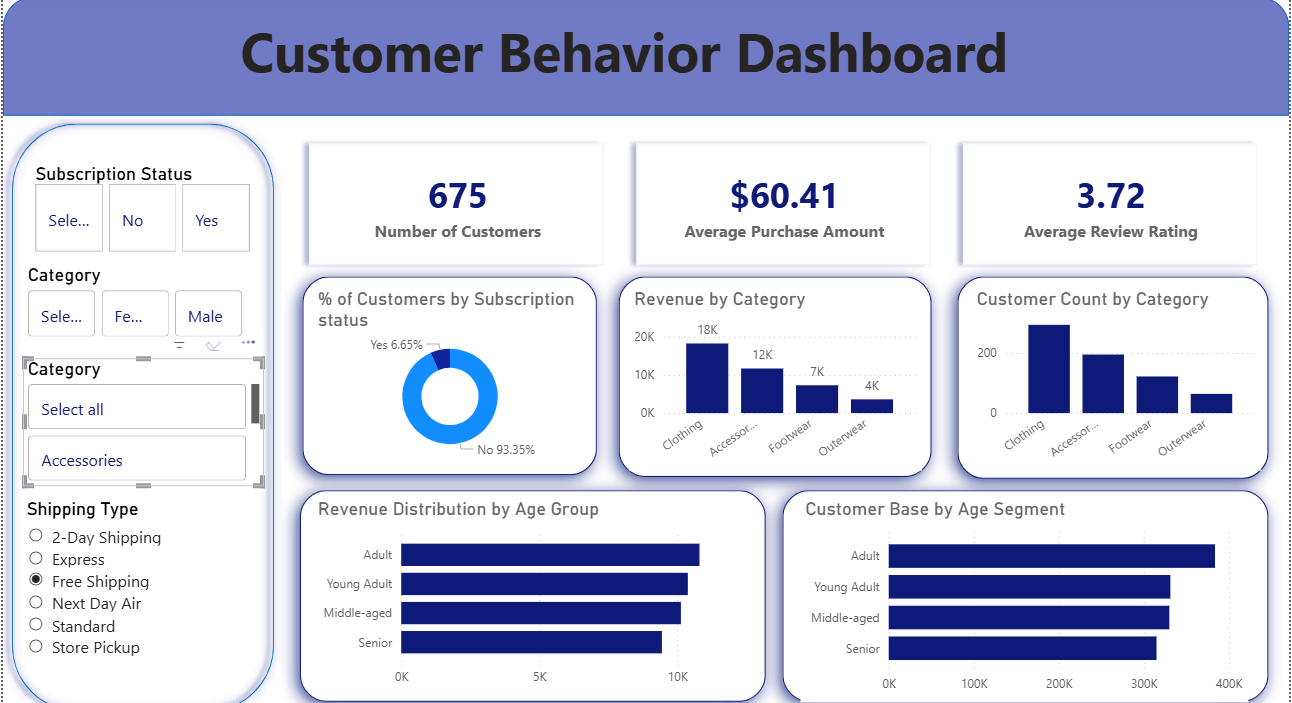

What the dashboard file says about the page in this screenshot:
{"tool":"powerbi","page":{"name":"Page 1","canvas":[1280,720],"ordinal":0},"visuals":[{"type":"cardVisual","fields":{"Data":["Query1.Number of Customers","Query1.Average Purchase Amount","Query1.Average Review Rating"]},"box":[276.8,117.3,1002.5,179.6],"z":0},{"type":"shape","box":[0,0,1280,118.2],"z":1000},{"type":"textbox","box":[204,12.4,828.5,89.6],"z":2000},{"type":"shape","box":[278.6,258.4,331.7,236.4],"z":3000},{"type":"donutChart","title":"% of Customers by Subscription status","fields":{"Category":["Query1.subscription_status"],"Y":["Sum(Query1.customer_id)"]},"box":[307.9,289.6,273.1,174.1],"z":4000},{"type":"shape","box":[593.8,258.4,350.1,238.3],"z":5000},{"type":"shape","box":[931.1,258.4,348.2,240.1],"z":6000},{"type":"shape","box":[0,117.3,278.6,603],"z":7000},{"type":"clusteredColumnChart","title":"Revenue by Category","fields":{"Y":["Sum(Query1.purchase_amount)"],"Category":["Query1.category"]},"box":[623.1,289.6,291.4,181.4],"z":8000},{"type":"clusteredColumnChart","title":"Customer Count by Category","fields":{"Category":["Query1.category"],"Y":["Query1.Number of Customers"]},"box":[964,289.6,287.7,181.4],"z":9000},{"type":"advancedSlicerVisual","title":"Subscription Status","fields":{"Values":["Query1.subscription_status"]},"box":[27.5,165,223.6,93.5],"z":10000},{"type":"advancedSlicerVisual","title":"Category","fields":{"Values":["Query1.category"]},"box":[20.2,359.2,240.1,128.3],"z":11000},{"type":"listSlicer","title":"Shipping Type","fields":{"Values":["Query1.shipping_type"]},"box":[18.3,498.5,225.4,166.8],"z":12000},{"type":"shape","box":[276.8,471,502.2,249.3],"z":13000},{"type":"clusteredBarChart","title":"Revenue Distribution by Age Group","fields":{"Category":["Query1.age_group"],"Y":["Sum(Query1.purchase_amount)"]},"box":[307.9,498.5,432.5,196.1],"z":14000},{"type":"shape","box":[756.9,471,522.3,249.3],"z":15000},{"type":"clusteredBarChart","title":"Customer Base by Age Segment","fields":{"Category":["Query1.age_group"],"Y":["Sum(Query1.customer_id)"]},"box":[793.6,498.5,445.4,203.4],"z":16000},{"type":"advancedSlicerVisual","title":"Category","fields":{"Values":["Query1.gender"]},"box":[20.2,265.8,223.6,77],"z":17000}]}

Visuals, with their boxes on the page's 1280x720 design canvas (x1, y1, x2, y2). These are canvas units, not pixel positions in the 1292x703 screenshot, which may show the page scaled, cropped or inside an application window:
cardVisual - Query1.Number of Customers x Query1.Average Purchase Amount: <region>277, 117, 1279, 297</region>
shape: <region>0, 0, 1280, 118</region>
textbox: <region>204, 12, 1032, 102</region>
shape: <region>279, 258, 610, 495</region>
"% of Customers by Subscription status" donutChart: <region>308, 290, 581, 464</region>
shape: <region>594, 258, 944, 497</region>
shape: <region>931, 258, 1279, 498</region>
shape: <region>0, 117, 279, 720</region>
"Revenue by Category" clusteredColumnChart: <region>623, 290, 914, 471</region>
"Customer Count by Category" clusteredColumnChart: <region>964, 290, 1252, 471</region>
"Subscription Status" advancedSlicerVisual: <region>28, 165, 251, 258</region>
"Category" advancedSlicerVisual: <region>20, 359, 260, 488</region>
"Shipping Type" listSlicer: <region>18, 498, 244, 665</region>
shape: <region>277, 471, 779, 720</region>
"Revenue Distribution by Age Group" clusteredBarChart: <region>308, 498, 740, 695</region>
shape: <region>757, 471, 1279, 720</region>
"Customer Base by Age Segment" clusteredBarChart: <region>794, 498, 1239, 702</region>
"Category" advancedSlicerVisual: <region>20, 266, 244, 343</region>
